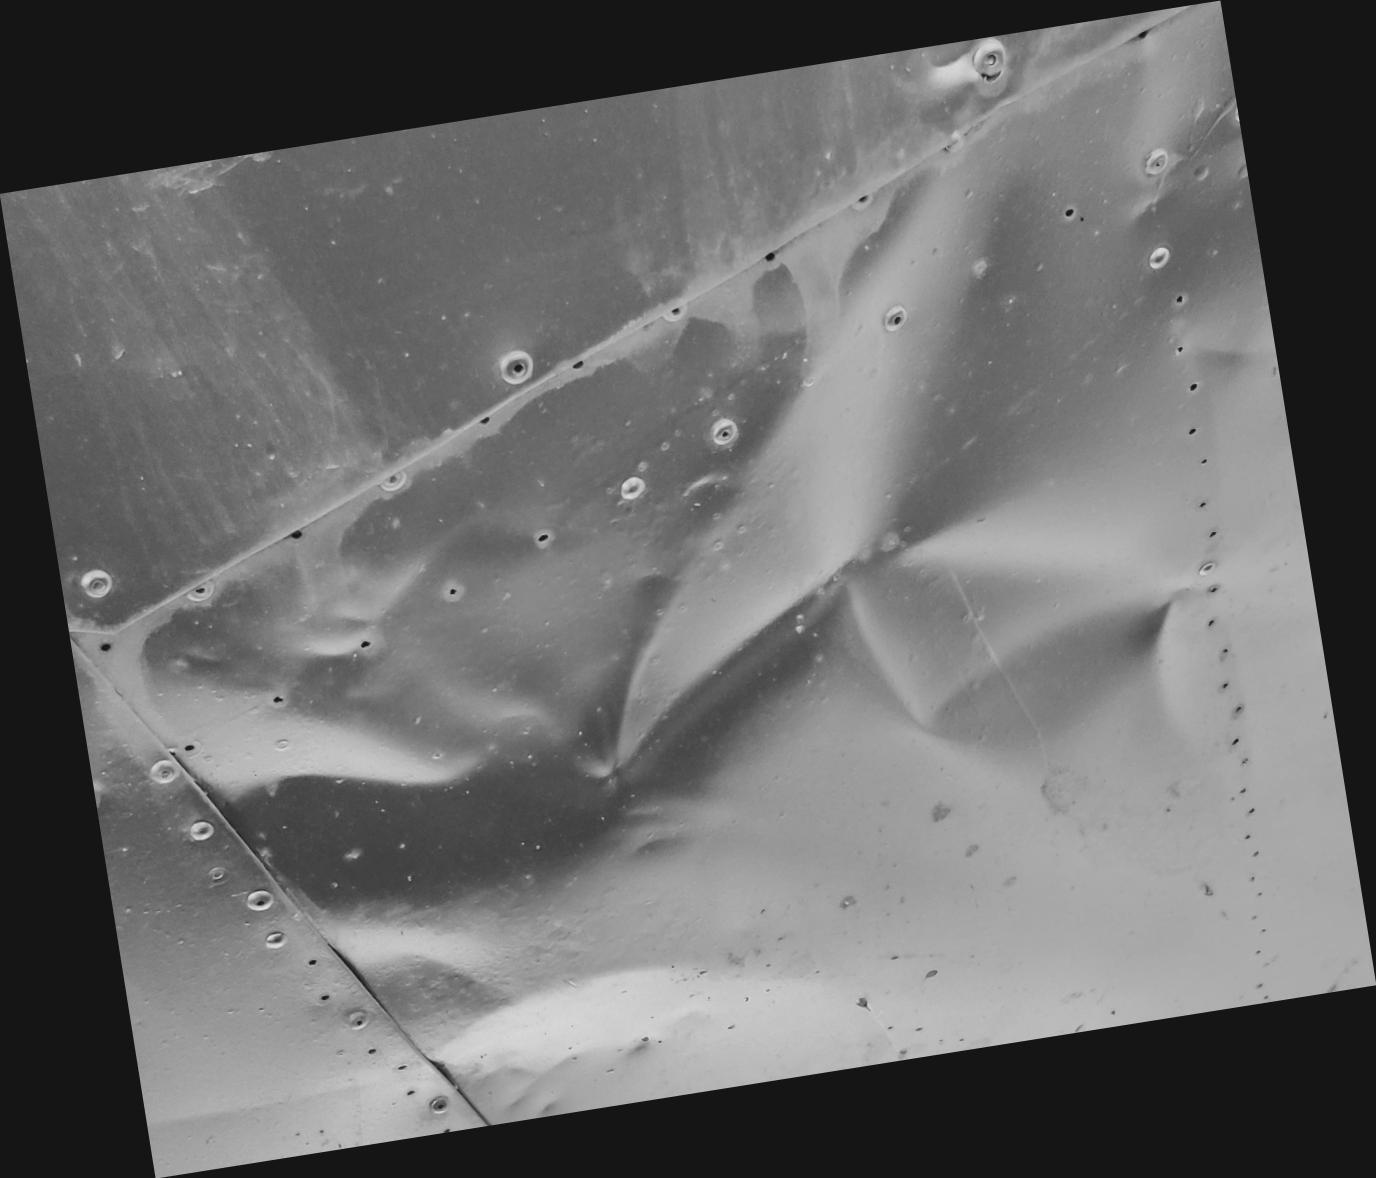dent: (0, 1, 1376, 1178)
